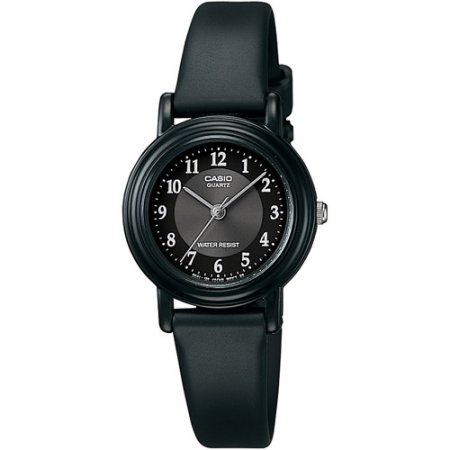clock: (121, 114, 319, 310)
